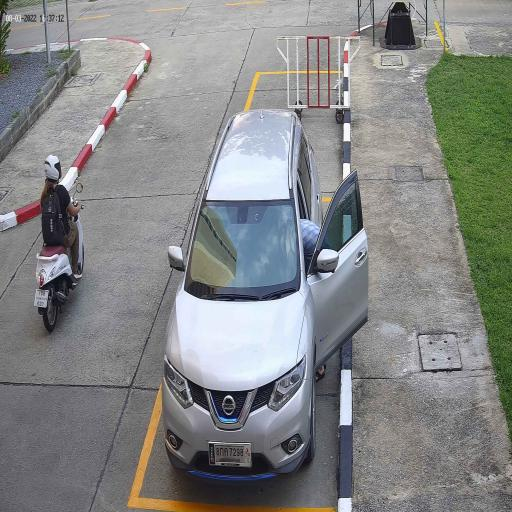car: (161, 107, 324, 484)
motorcycle: (34, 218, 85, 334)
